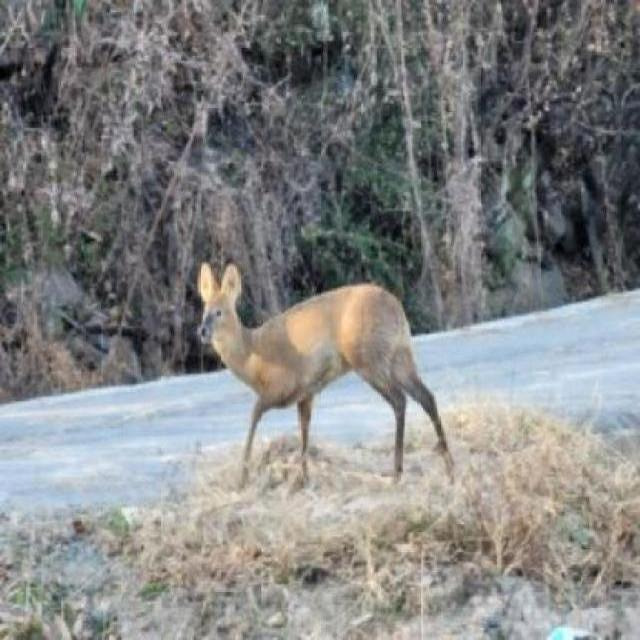deer: (193, 247, 458, 485)
